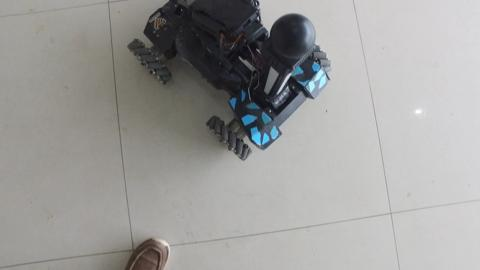chariot: (116, 2, 341, 153)
